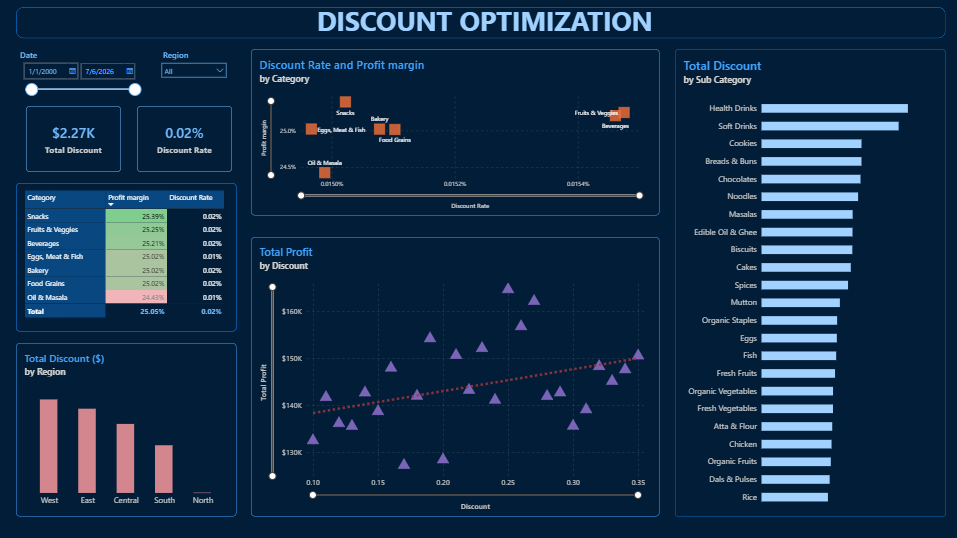

The page's visual inventory and layout, read from the dashboard file:
{"tool":"powerbi","page":{"name":"Discount Optimization","canvas":[1920,1080],"ordinal":3},"visuals":[{"type":"shape","box":[36.4,16.2,1859.4,62.7],"z":0},{"type":"textbox","box":[77.1,5.3,1790.7,78.8],"z":1000},{"type":"slicer","title":"Date","fields":{"Values":["Calendar.Date"]},"box":[44.6,99.1,246.1,105.9],"z":2000,"group":"g1"},{"type":"card","fields":{"Values":["Analytics.Total Discount"]},"box":[56.4,213.6,189.7,131.6],"z":2000},{"type":"slicer","title":"Region","fields":{"Values":["Supermart Grocery Sales.Region"]},"box":[323.1,99.1,140.1,78.6],"z":3000,"group":"g1"},{"type":"card","fields":{"Values":["Analytics.Discount Rate"]},"box":[278.5,213.6,189.7,131.6],"z":3000},{"type":"clusteredBarChart","fields":{"Category":["Supermart Grocery Sales.Sub Category"],"Y":["Analytics.Total Discount"]},"box":[1353.4,99.1,541.7,936.5],"z":4000},{"type":"scatterChart","title":"Total Profit","fields":{"X":["Supermart Grocery Sales.Discount"],"Y":["Analytics.Total Profit"]},"box":[505.8,476.8,816.8,558.8],"z":5000},{"type":"tableEx","fields":{"Values":["Supermart Grocery Sales.Category","Analytics.Profit margin","Analytics.Discount Rate"]},"box":[35.9,367.4,440.9,297.3],"z":6000},{"type":"scatterChart","fields":{"Category":["Supermart Grocery Sales.Category"],"X":["Analytics.Discount Rate"],"Y":["Analytics.Profit margin"]},"box":[505.8,99.1,816.8,333.2],"z":7000},{"type":"columnChart","title":"Total Discount ($)","fields":{"Category":["Supermart Grocery Sales.Region"],"Y":["Sum(Supermart Grocery Sales.Discount)"]},"box":[35.9,688.7,440.9,346.9],"z":8000},{"type":"group","id":"g1","title":"Group 1","box":[44.6,99.1,418.7,105.9],"z":9000}]}

Visuals, with their boxes in screenshot pixels (x1, y1, x2, y2), scaled from the page's 1920x1080 canvas onto the 957x538 screenshot:
shape: x1=18, y1=8, x2=945, y2=39
textbox: x1=38, y1=3, x2=931, y2=42
"Date" slicer: x1=22, y1=49, x2=145, y2=102
card - Analytics.Total Discount: x1=28, y1=106, x2=123, y2=172
"Region" slicer: x1=161, y1=49, x2=231, y2=89
card - Analytics.Discount Rate: x1=139, y1=106, x2=233, y2=172
clusteredBarChart - Supermart Grocery Sales.Sub Category x Analytics.Total Discount: x1=675, y1=49, x2=945, y2=516
"Total Profit" scatterChart: x1=252, y1=238, x2=659, y2=516
tableEx - Supermart Grocery Sales.Category x Analytics.Profit margin: x1=18, y1=183, x2=238, y2=331
scatterChart - Supermart Grocery Sales.Category x Analytics.Discount Rate: x1=252, y1=49, x2=659, y2=215
"Total Discount ($)" columnChart: x1=18, y1=343, x2=238, y2=516
"Group 1" group: x1=22, y1=49, x2=231, y2=102
